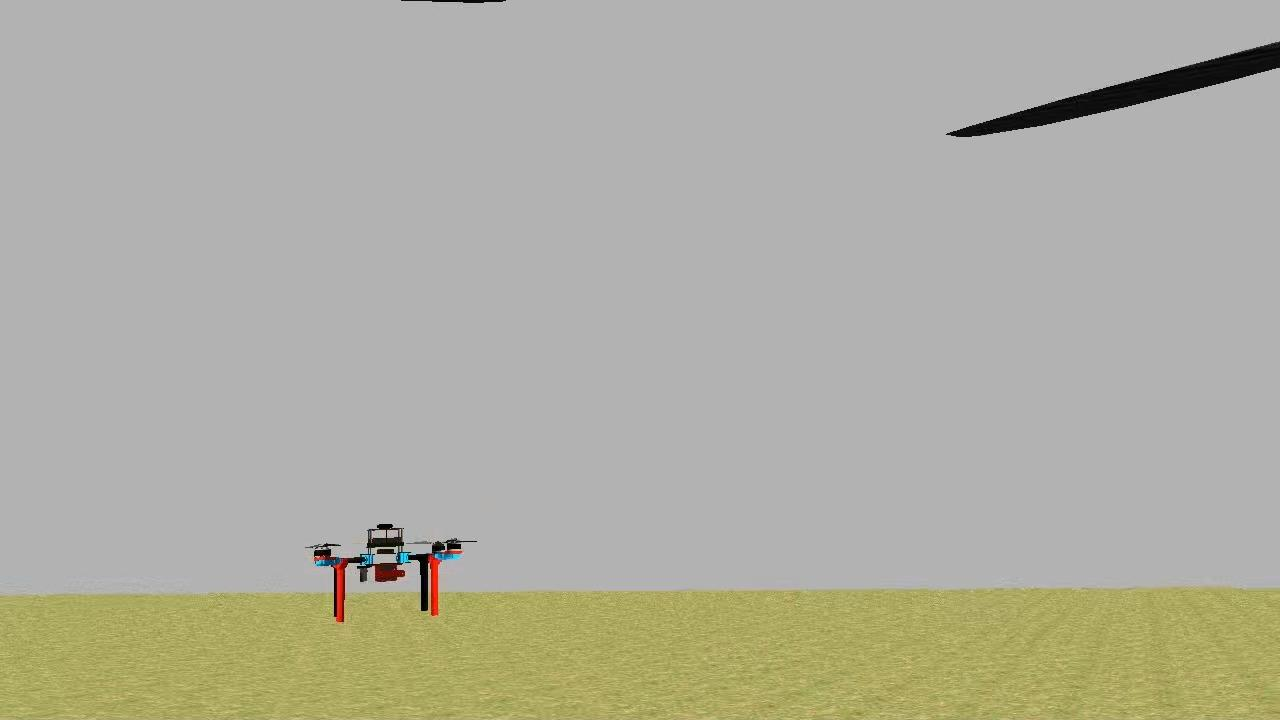UAV: (312, 518, 468, 622)
